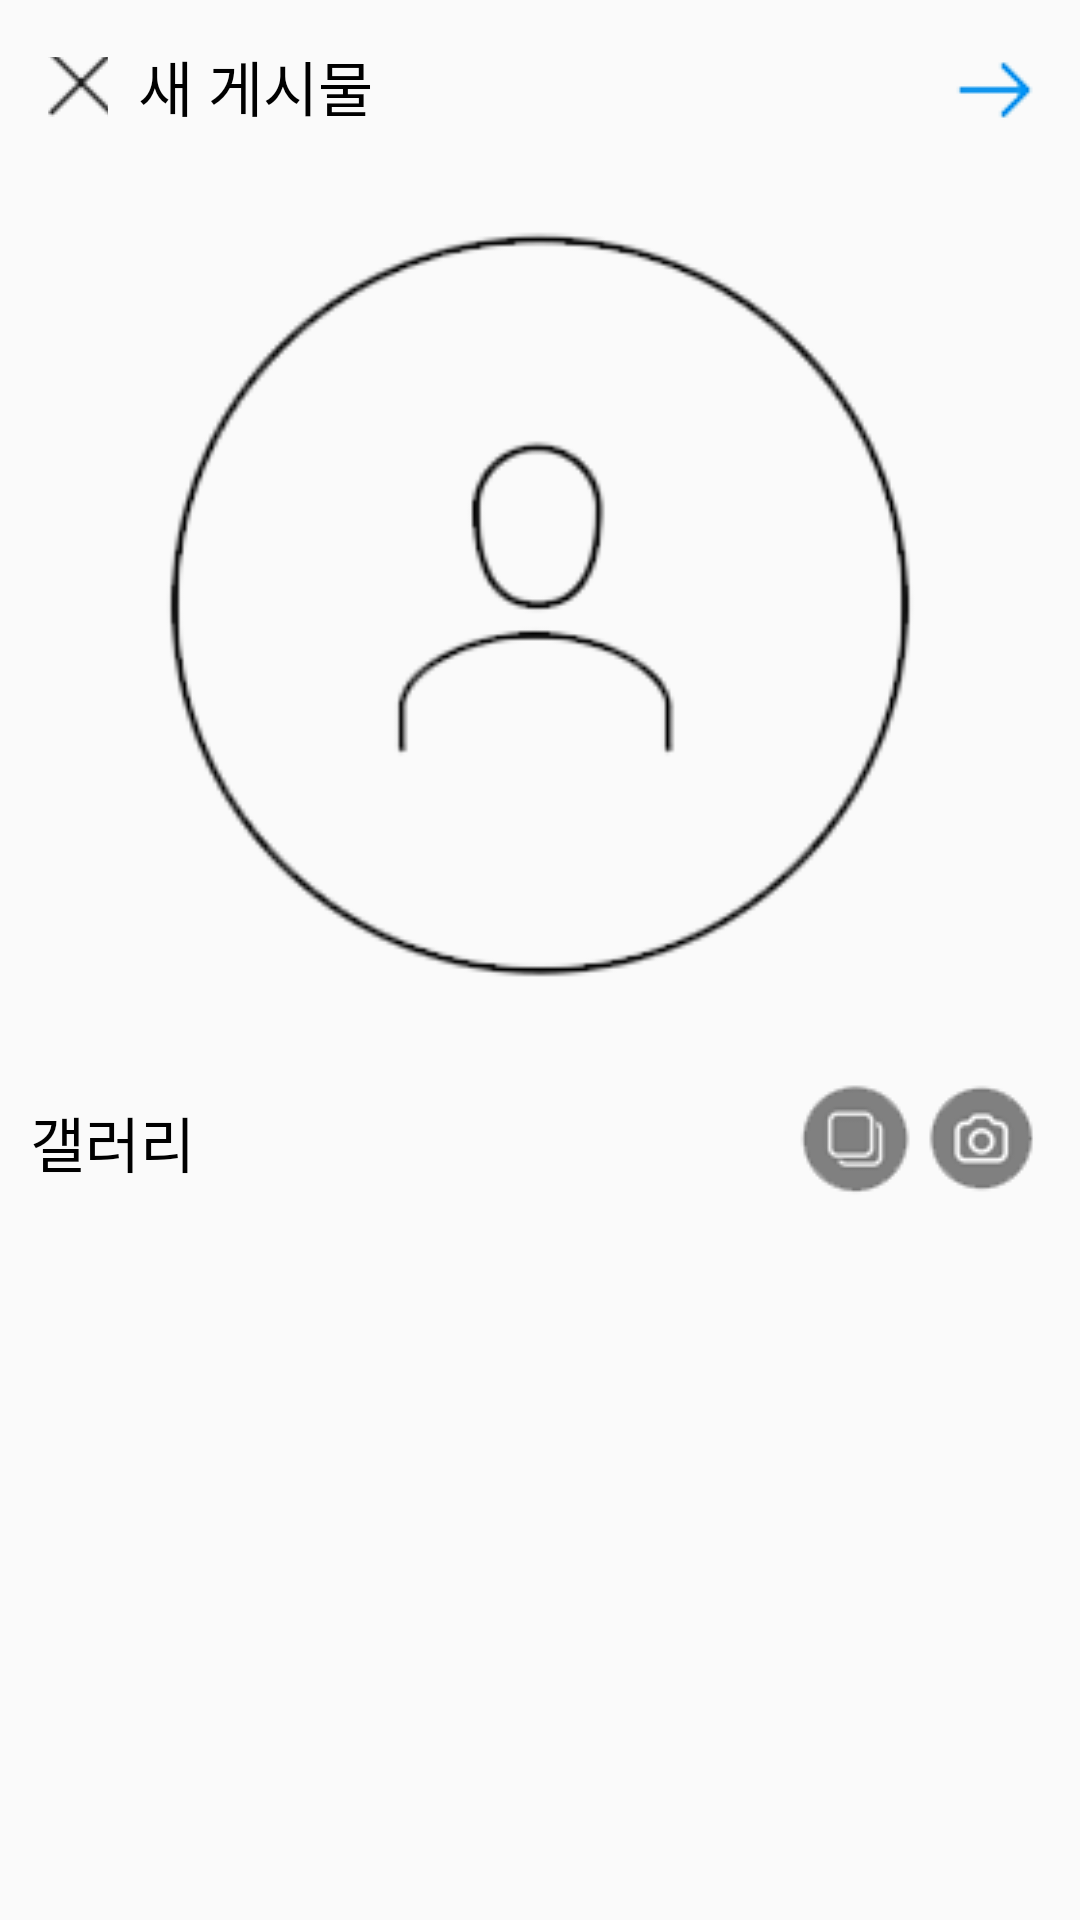

Screen size 1080 x 1920. Icon name, then its center in pixels as (x=x, y=y):
camera: (x=981, y=1138)
close: (x=78, y=86)
multi check: (x=855, y=1138)
next arrow: (x=995, y=90)
